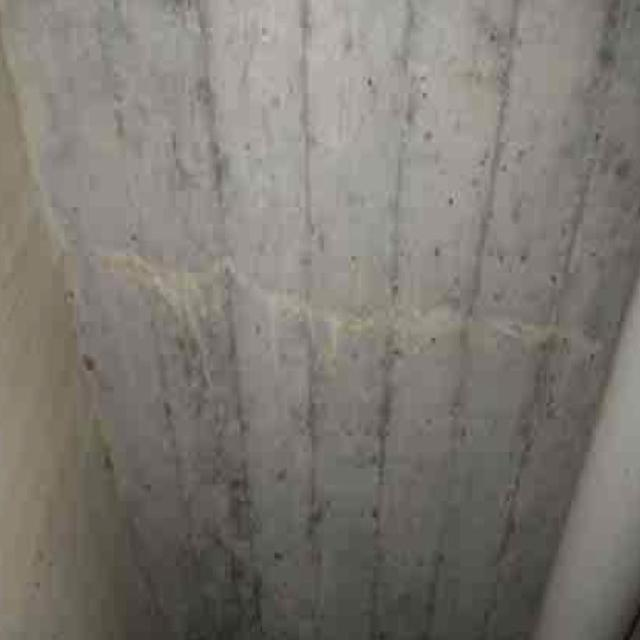freelime: (71, 228, 616, 386)
